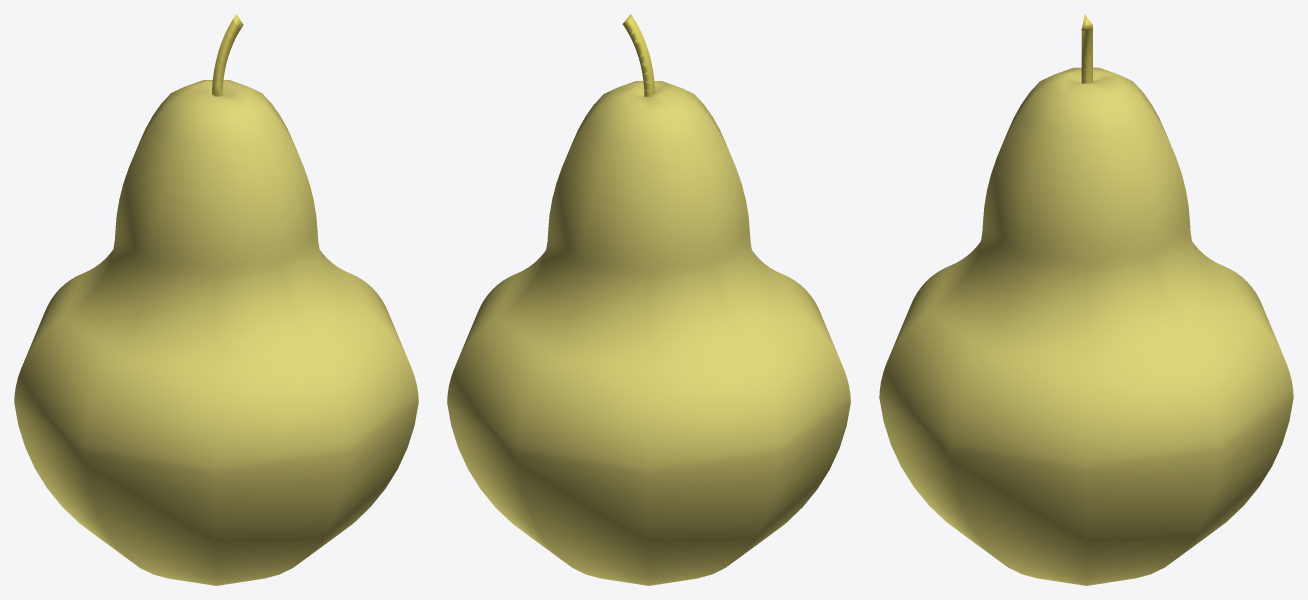
The model's file is PearWhole.fbx.
3 renders of one model, left to right at view 1: azimuth 30°, elevation 25°; view 2: azimuth 150°, elevation 25°; view 3: azimuth 270°, elevation 25°, orthographic. The views are drawn at different scales.
Parts seen in each view (by area): view 1: Mesh17 pear1 bowl_of_fruit1 Model; view 2: Mesh17 pear1 bowl_of_fruit1 Model; view 3: Mesh17 pear1 bowl_of_fruit1 Model.
Boxes of the visible parts, bbox=[...] form: Mesh17 pear1 bowl_of_fruit1 Model: bbox=[14, 14, 418, 585]; Mesh17 pear1 bowl_of_fruit1 Model: bbox=[447, 14, 850, 585]; Mesh17 pear1 bowl_of_fruit1 Model: bbox=[879, 14, 1293, 585].
Bounding box in the file's own units: 887 × 1339 × 901.
